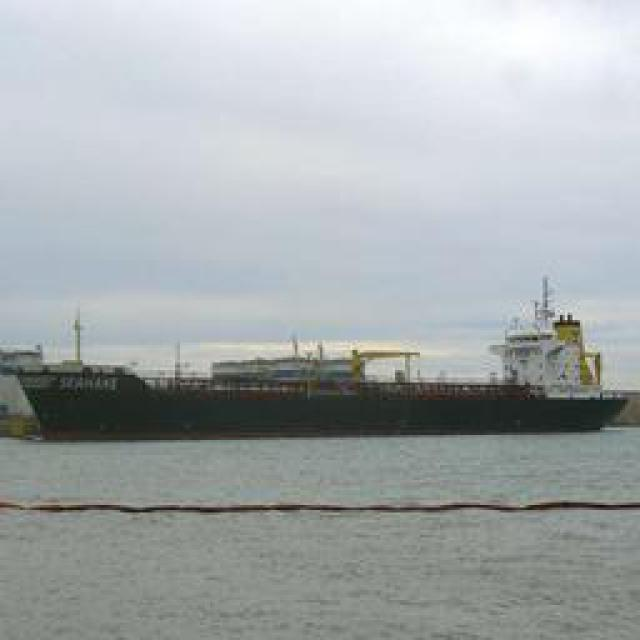Ship: (19, 325, 632, 440)
